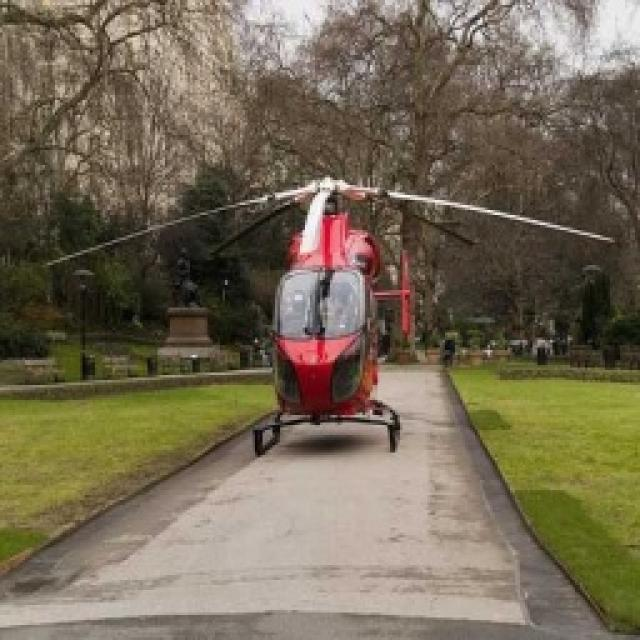ambulance: (272, 185, 398, 420)
